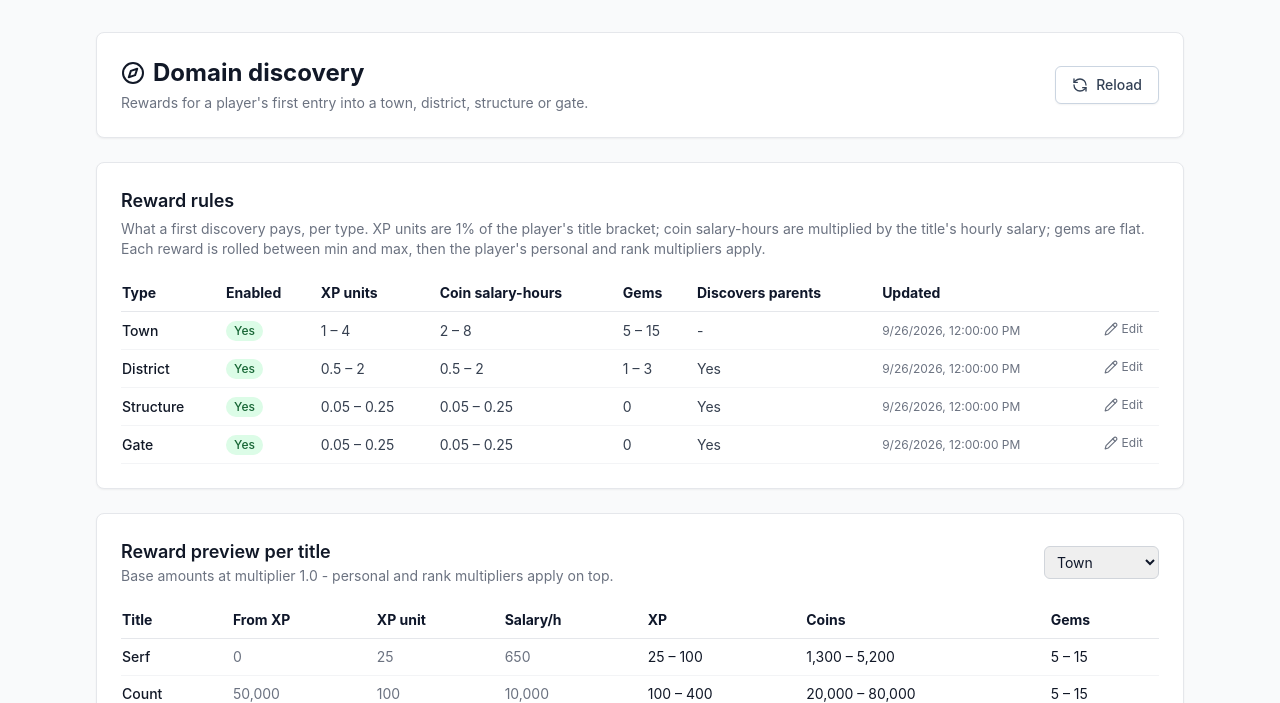
it: DiscoveryAdminPage › refuses to save a min above its max
The image size is (1280, 703).
Check: the text "Serf" is shown, box x1=121 y1=638 x2=232 y2=676
Click the button with aria-label "Edit District rule". click: (1123, 366)
box: x1=1104 y1=358 x2=1143 y2=374
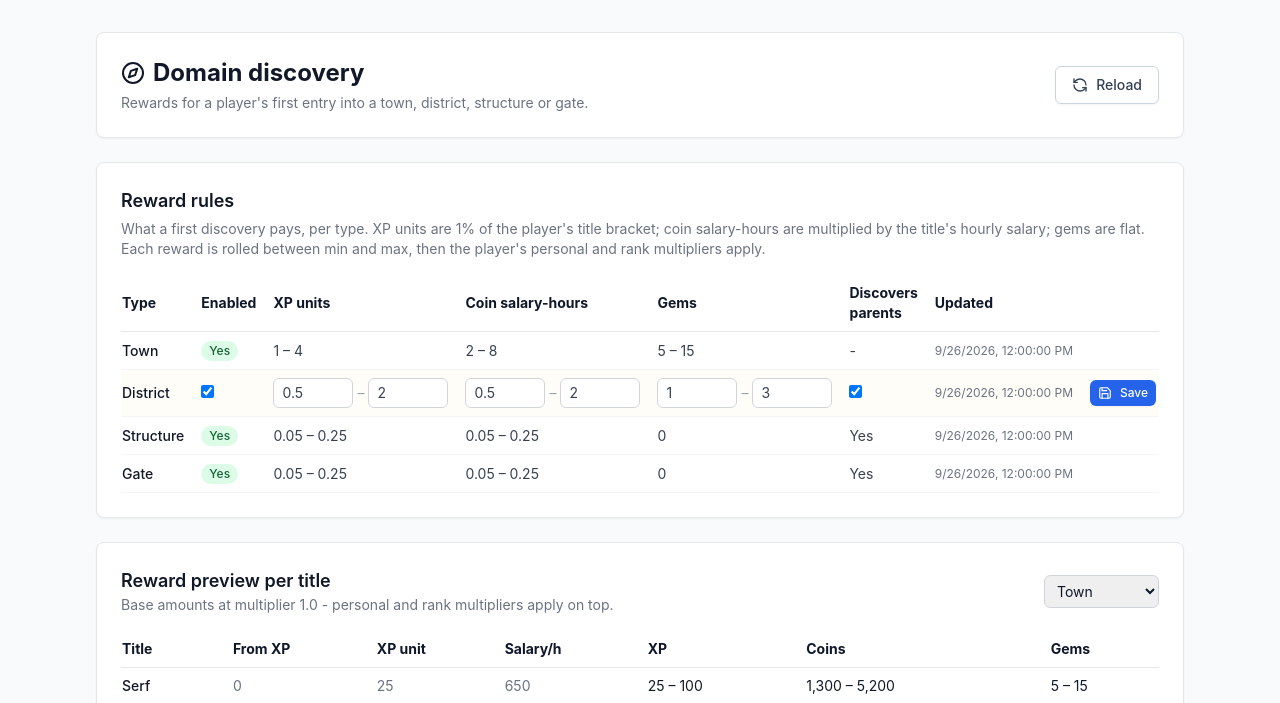
Replace the text in the number field named "District Gems min" with "9". click: (697, 393)
box: x1=657 y1=378 x2=737 y2=408
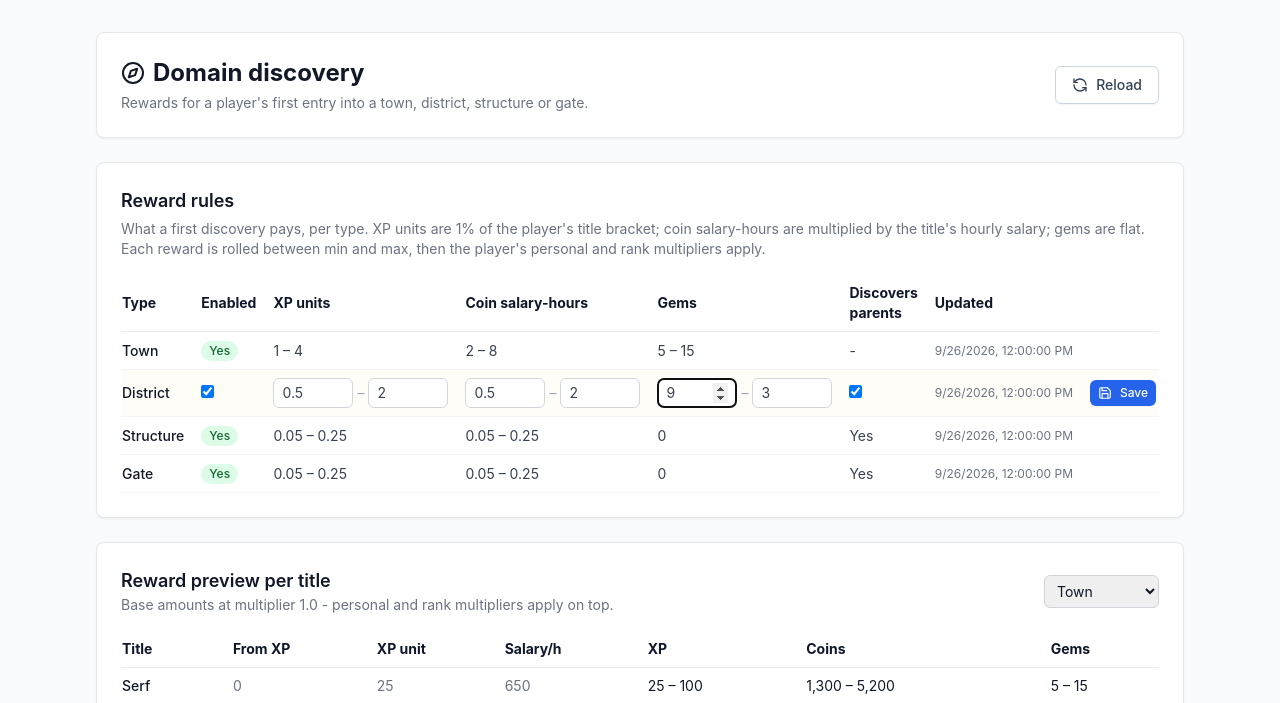
Click the button "Save". click: (1123, 393)
box: x1=1090 y1=380 x2=1156 y2=406
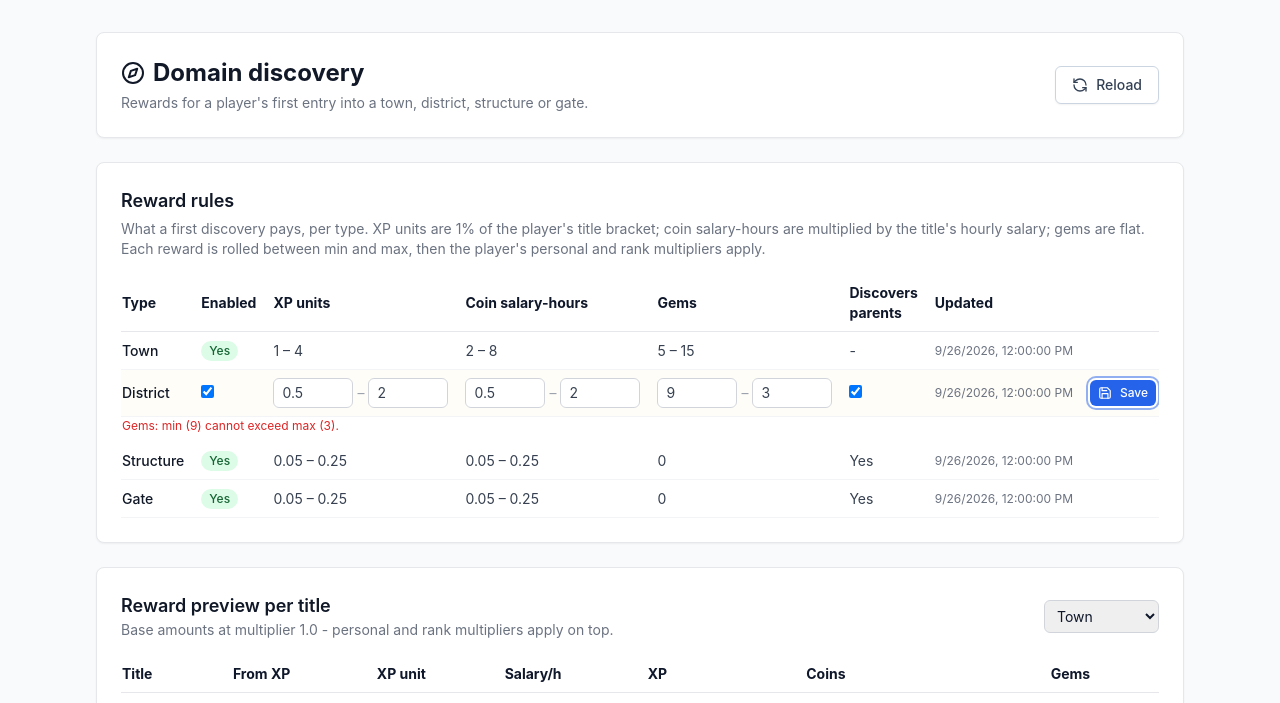
Check: the text "Gems: min (9) cannot exceed max (3)." is shown, box x1=122 y1=418 x2=339 y2=433
